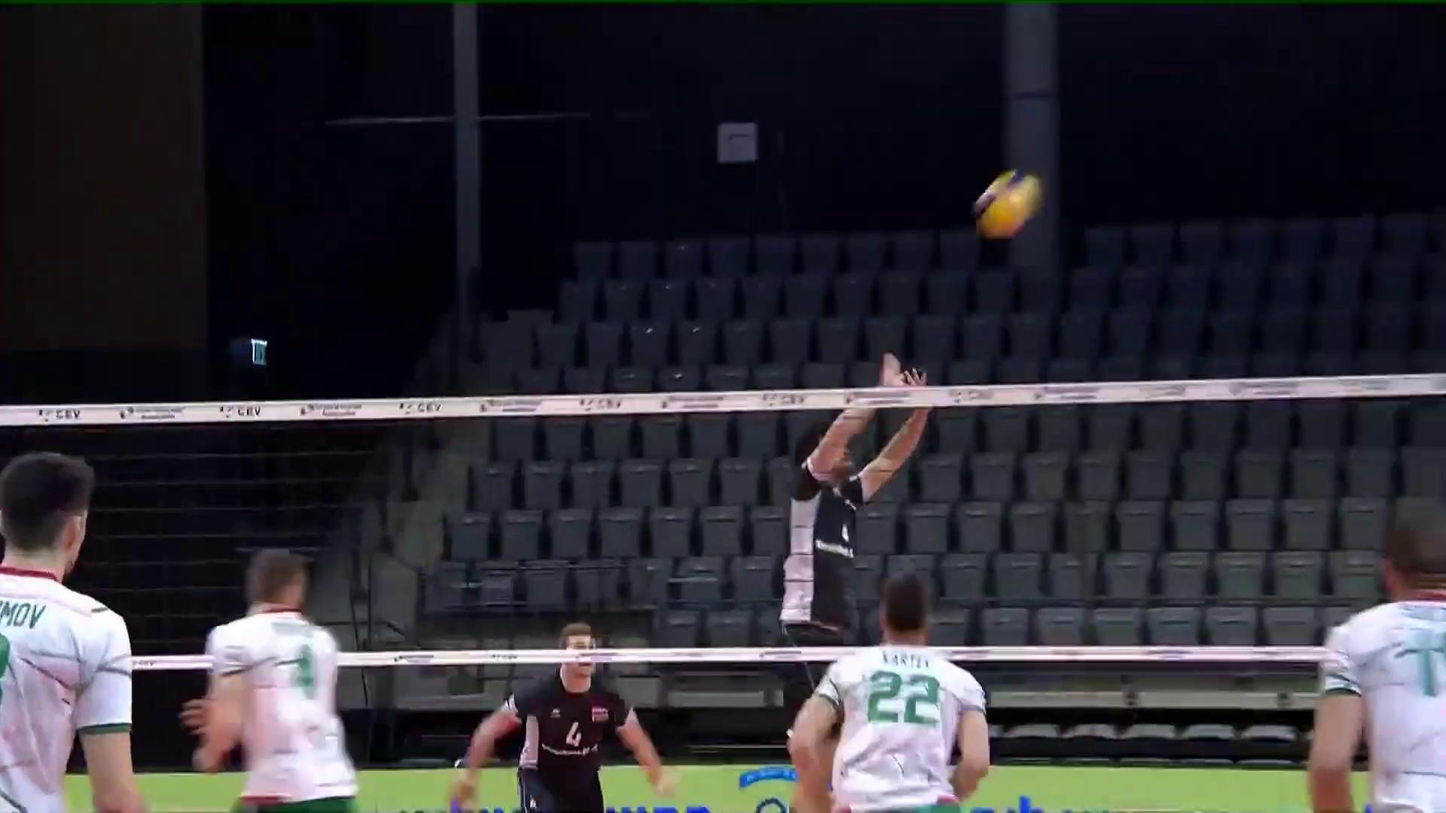ball: (970, 164, 1046, 239)
